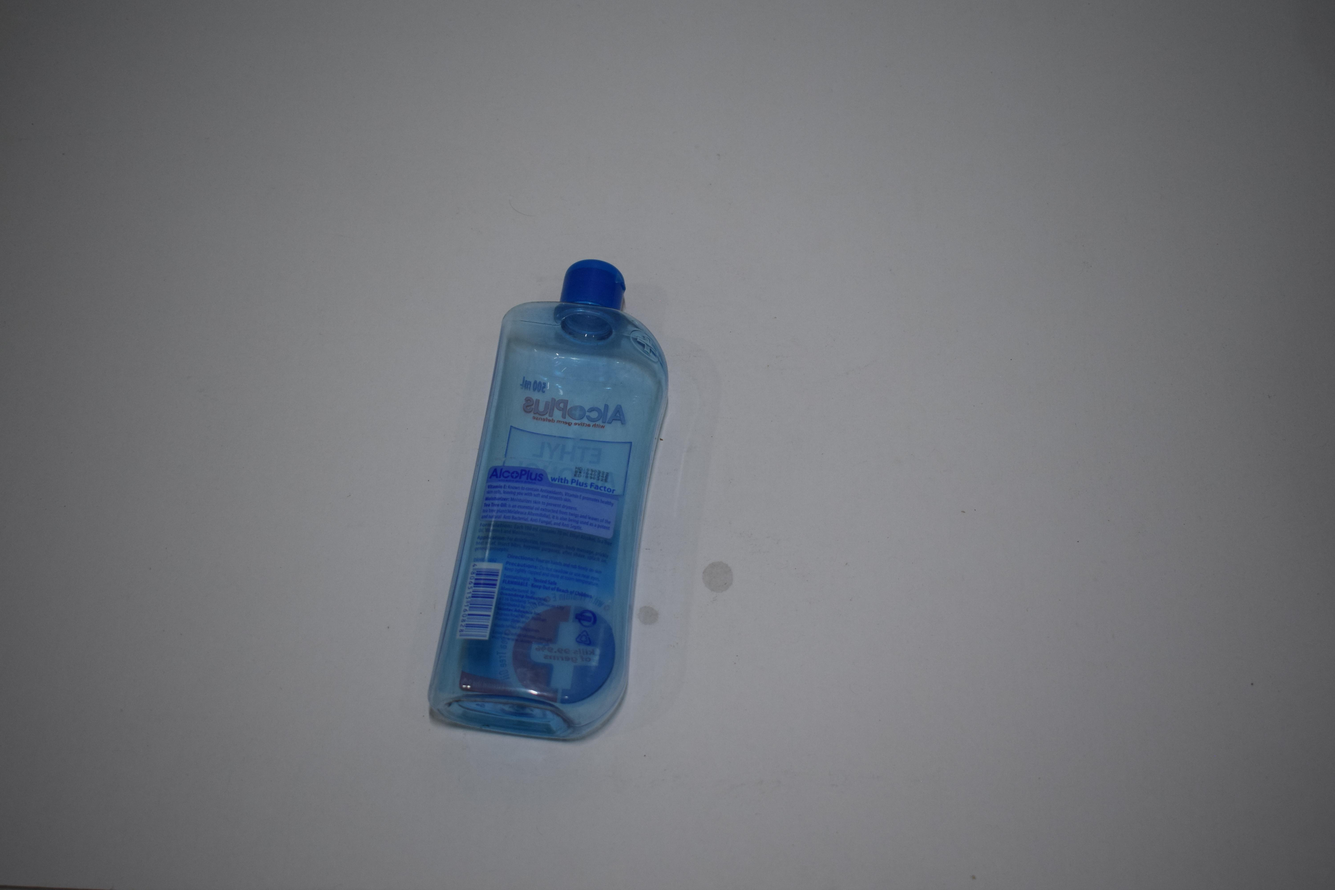plastic: (427, 260, 671, 746)
